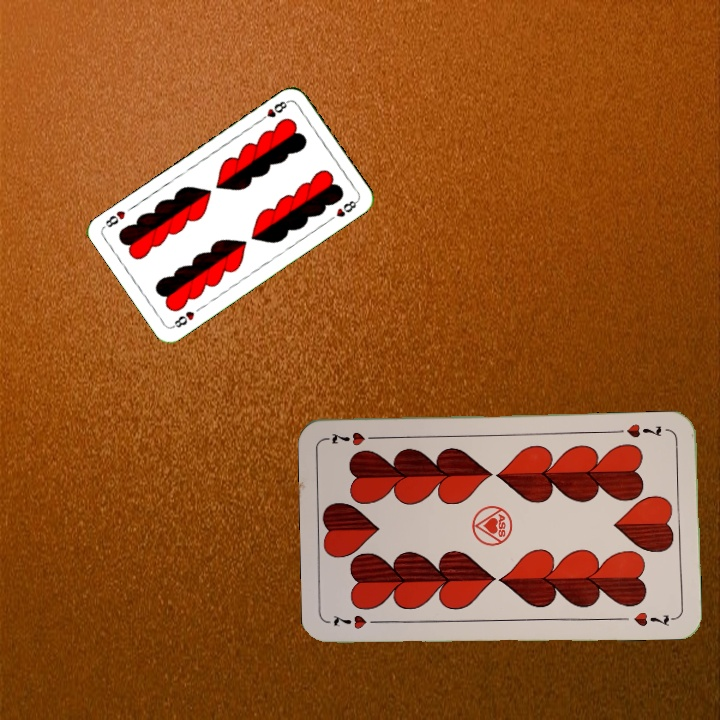H7: (329, 610, 385, 632), (612, 420, 665, 441)
H8: (255, 96, 291, 124), (168, 307, 197, 331)
